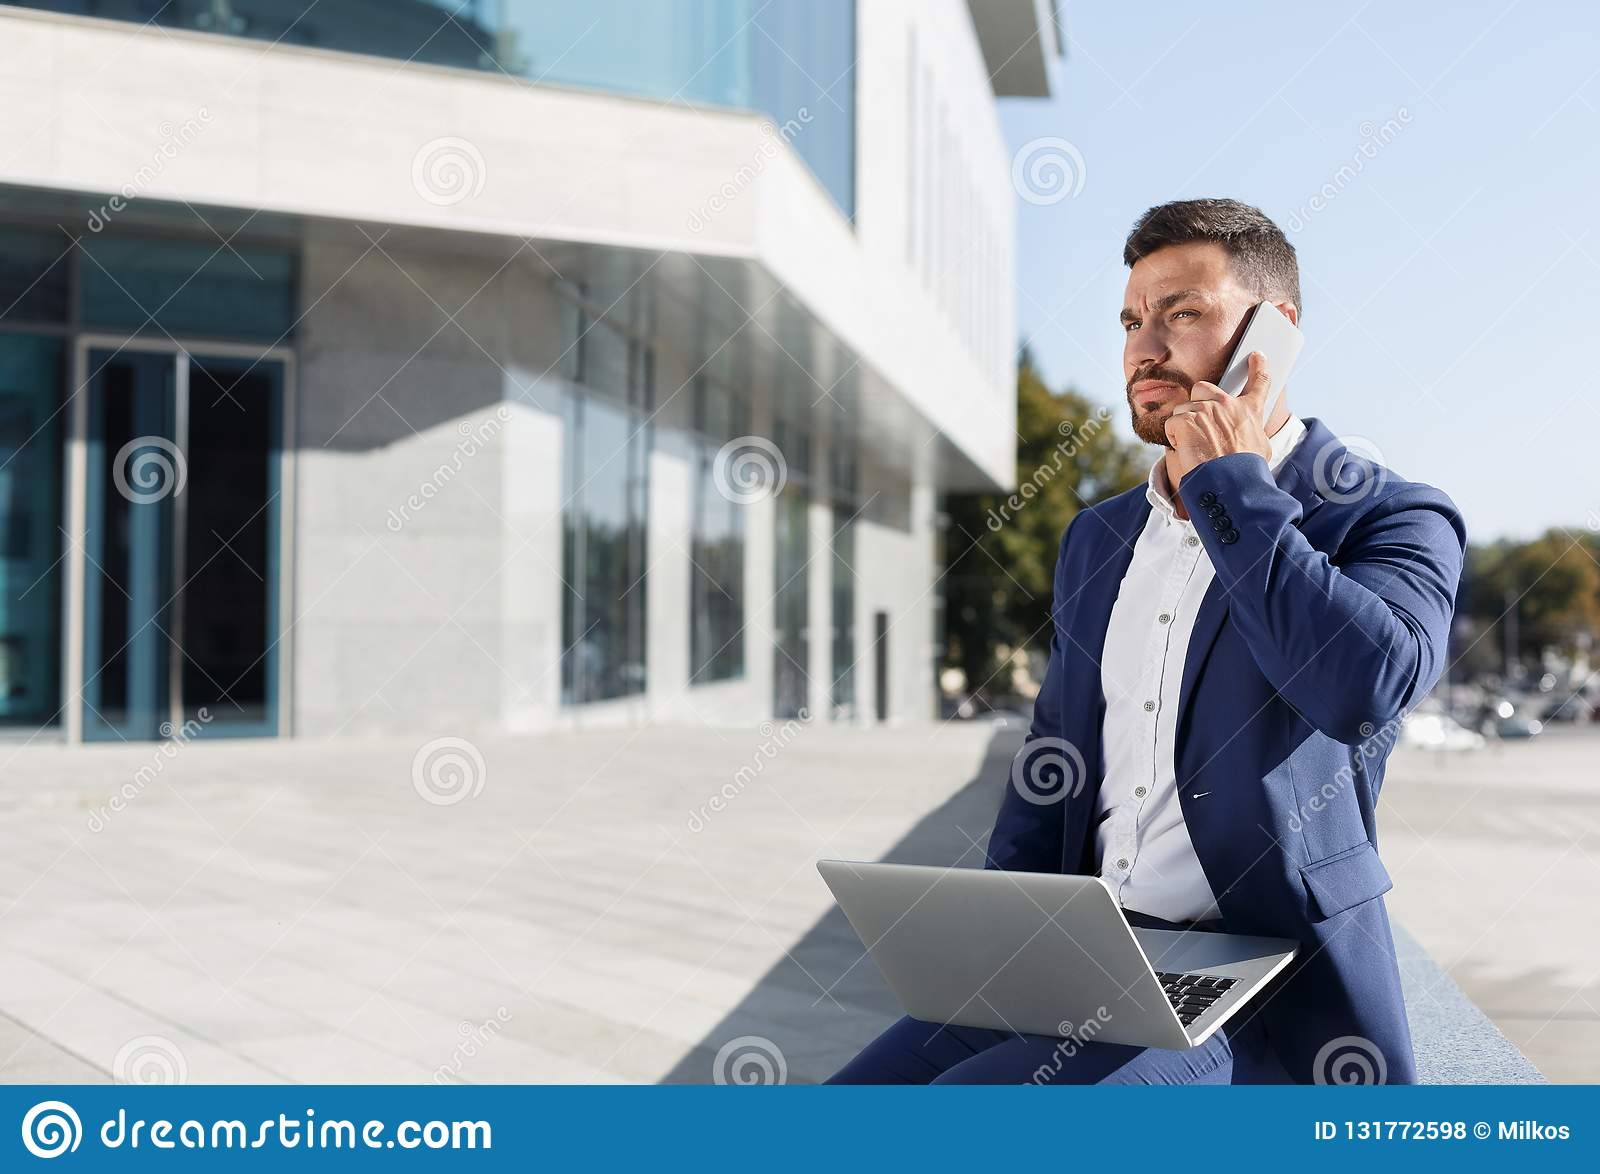phone: (1215, 302, 1302, 436)
talk: (1120, 280, 1306, 485)
